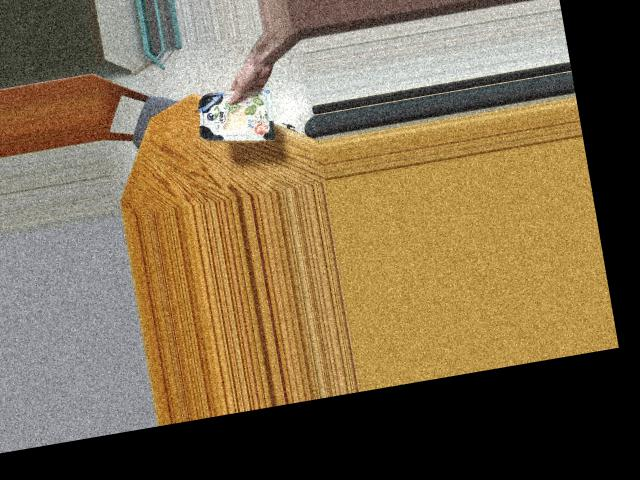cheese: (194, 74, 278, 152)
